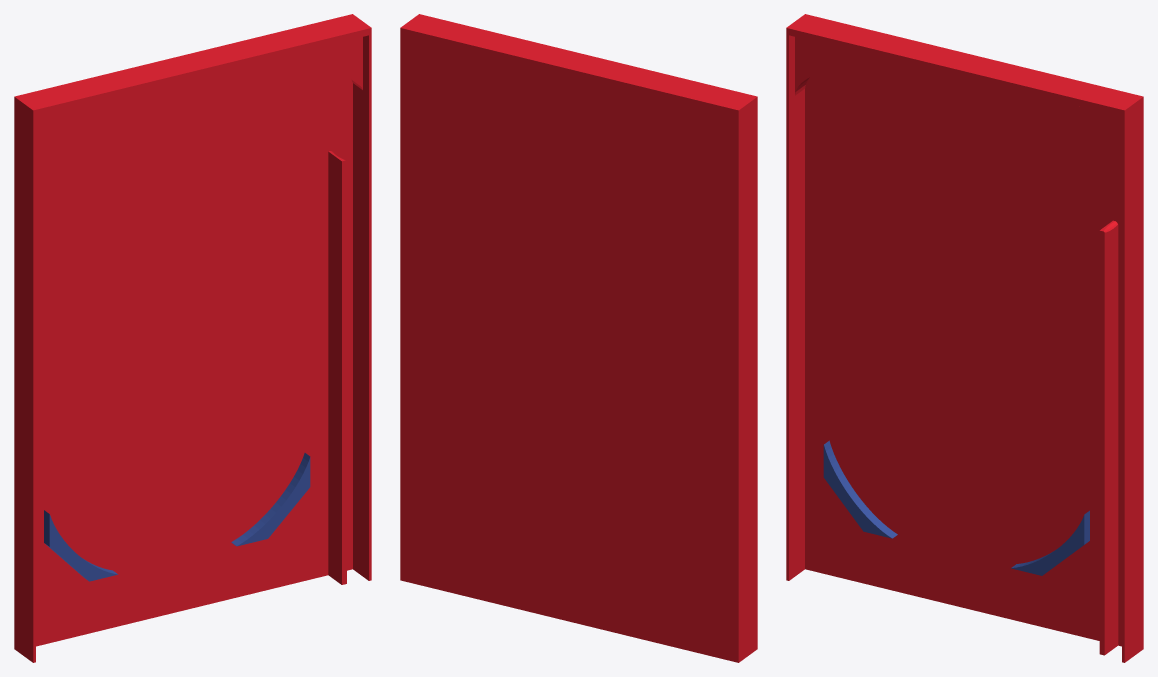
File: tinker.obj
The picture shows the model from 3 angles, left to right: view 1: azimuth 30°, elevation 25°; view 2: azimuth 150°, elevation 25°; view 3: azimuth 330°, elevation 25°; orthographic projection.
Visible parts, largest first — view 1: group_0_15277357, group_0_3888547; view 2: group_0_15277357; view 3: group_0_15277357, group_0_3888547.
Boxes of the visible parts, box(x1,y1,x2,y2) form: group_0_15277357: box(14, 14, 371, 662); group_0_3888547: box(44, 453, 310, 581); group_0_15277357: box(400, 14, 757, 662); group_0_15277357: box(786, 14, 1143, 662); group_0_3888547: box(823, 440, 1089, 575).
Bounding box in the file's own units: 134 × 209 × 13.
